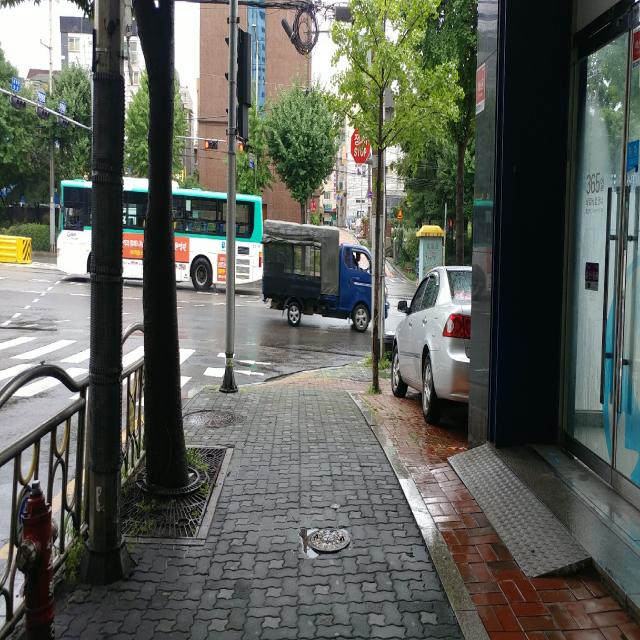빨간불: (446, 217, 453, 236)
횡단보도: (0, 326, 208, 399)
